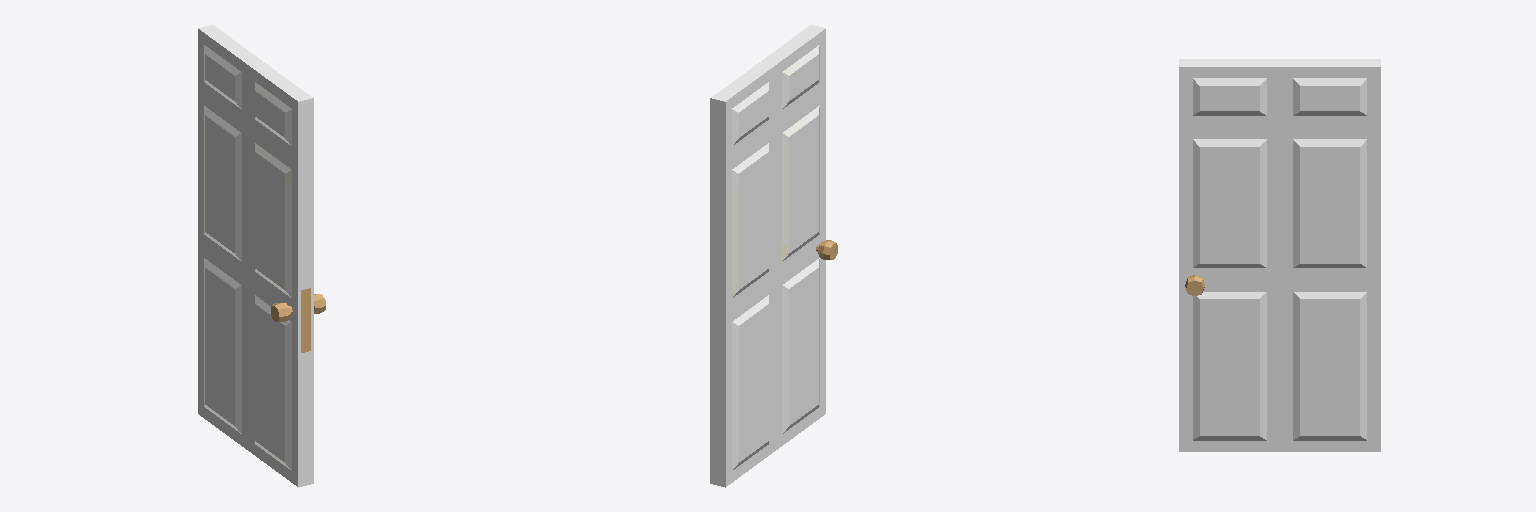
The picture shows the model from 3 angles: view 1: azimuth 30°, elevation 25°; view 2: azimuth 150°, elevation 25°; view 3: azimuth 270°, elevation 25°; orthographic projection.
Visible parts, largest first — view 1: Cube.003_Cube; view 2: Cube.003_Cube; view 3: Cube.003_Cube.
Boxes of the visible parts, x1,y1,x2,y2 form: Cube.003_Cube: [198, 25, 325, 487]; Cube.003_Cube: [710, 25, 837, 487]; Cube.003_Cube: [1179, 59, 1380, 451].
Bounding box in the file's own units: 0.4998 × 3.92 × 1.85.
1 materials, 1 textured.